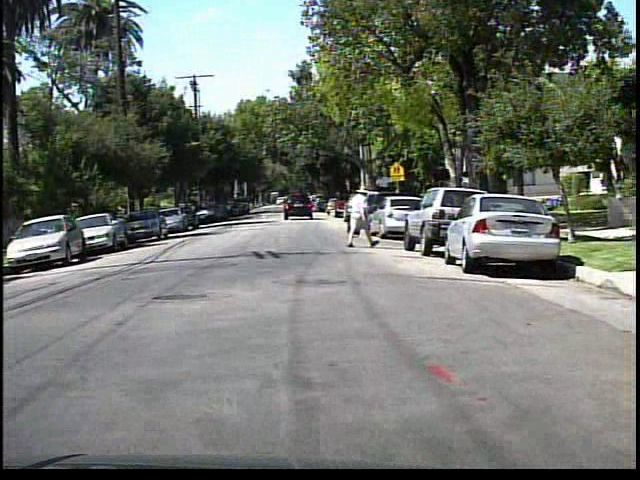person: (341, 184, 379, 251)
